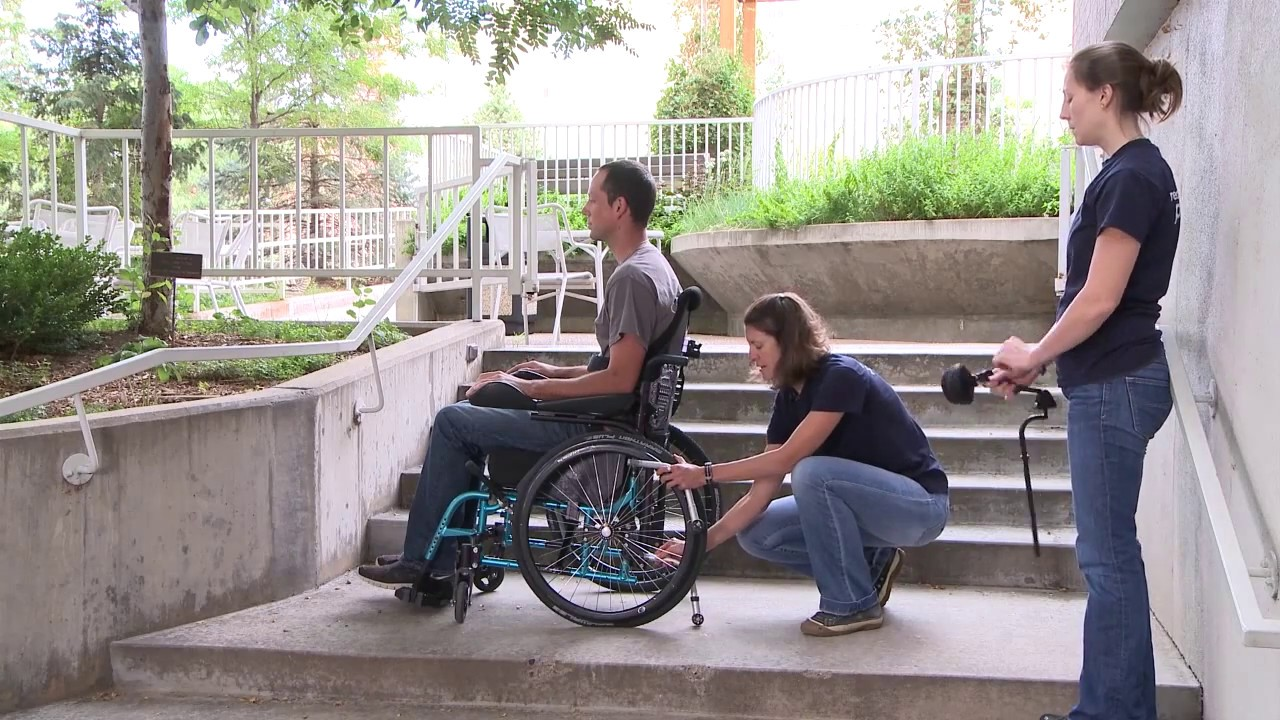wheelchair: (357, 154, 711, 634)
